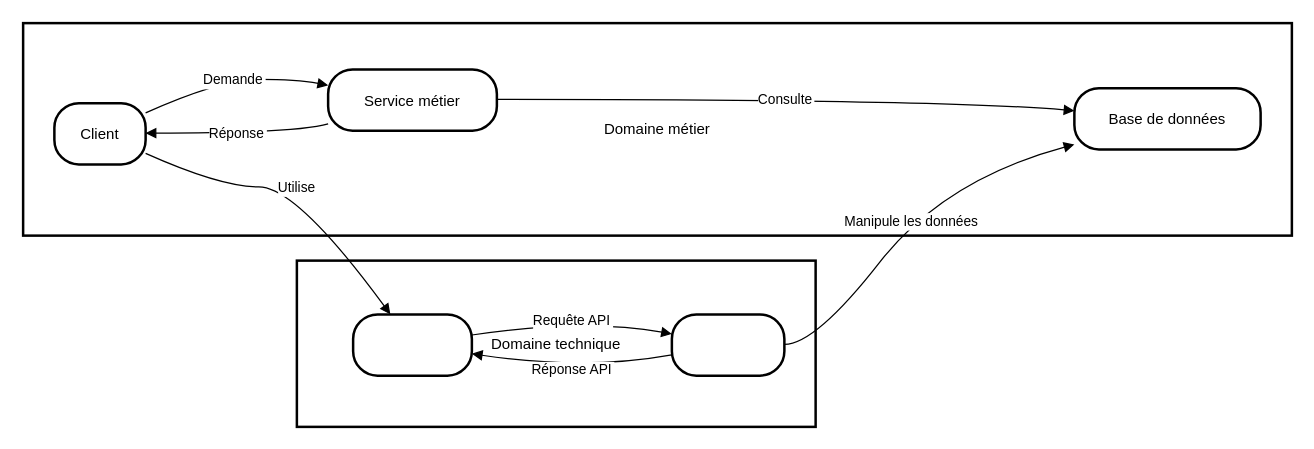
The diagram is 1314 pixels wide and 449 high, and some of its shapes have lost their labels. The box of each missing label's shape, as (x1, y1, x2, y2) in pixels:
Backend: (670, 312, 785, 376)
Frontend: (351, 312, 472, 376)
